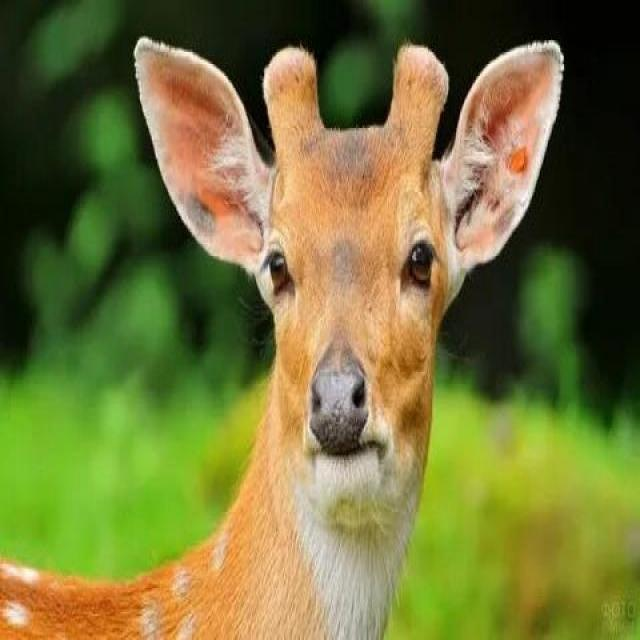deer: (192, 30, 543, 637)
